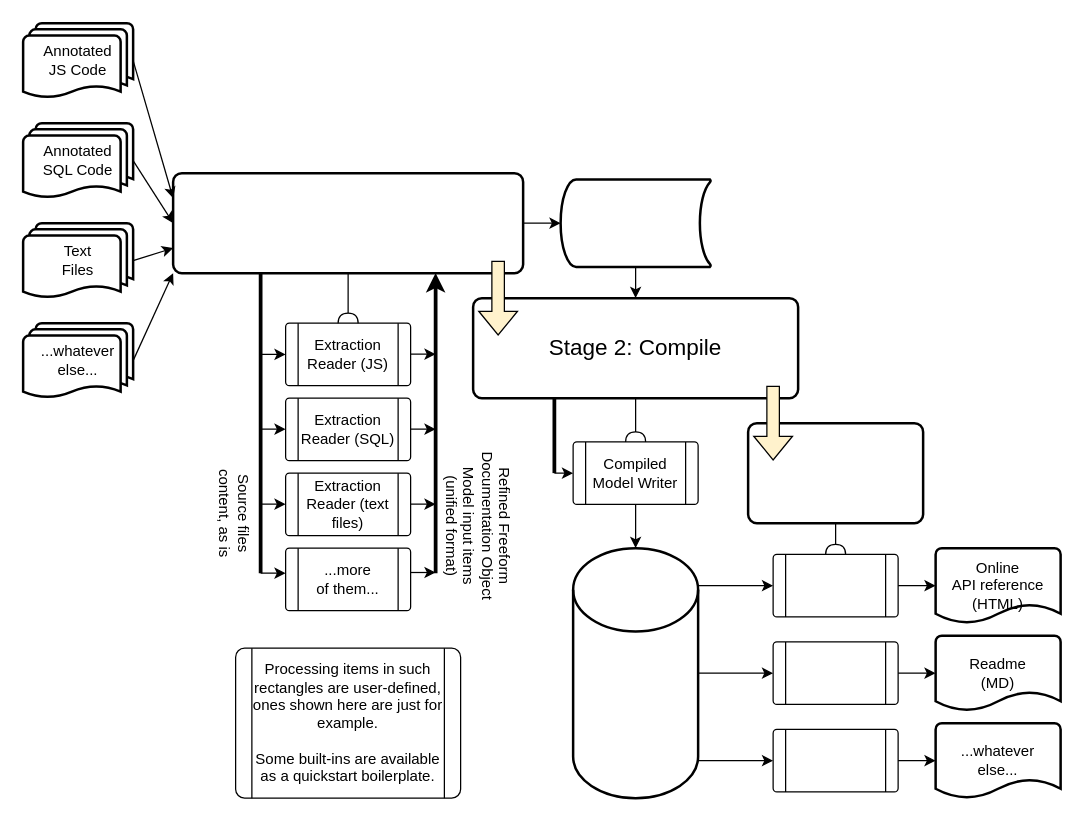
Some shapes in this 1083 by 820 pixel diagram are drawn without their labels. Here are the shapes that lost their labels. From the top down, the centre of each, then its label:
[347,222]: Stage 1: Extract
[635,223]: Aggregated Freeform Documentation Object Model Input
[835,472]: Stage 3: Generate
[835,585]: API Reference Writer
[635,672]: Compiled Freeform Documentation Model
[835,672]: Readme Writer
[835,760]: ...more writers...
